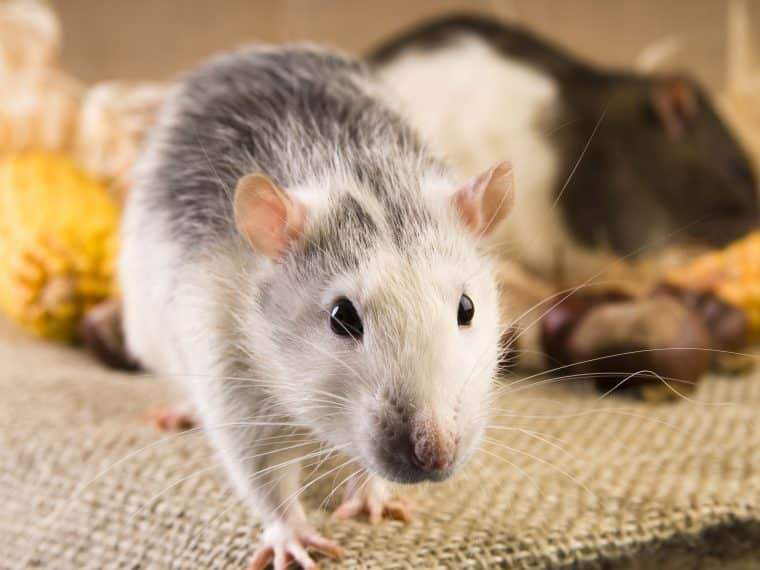rat: (104, 38, 532, 570)
